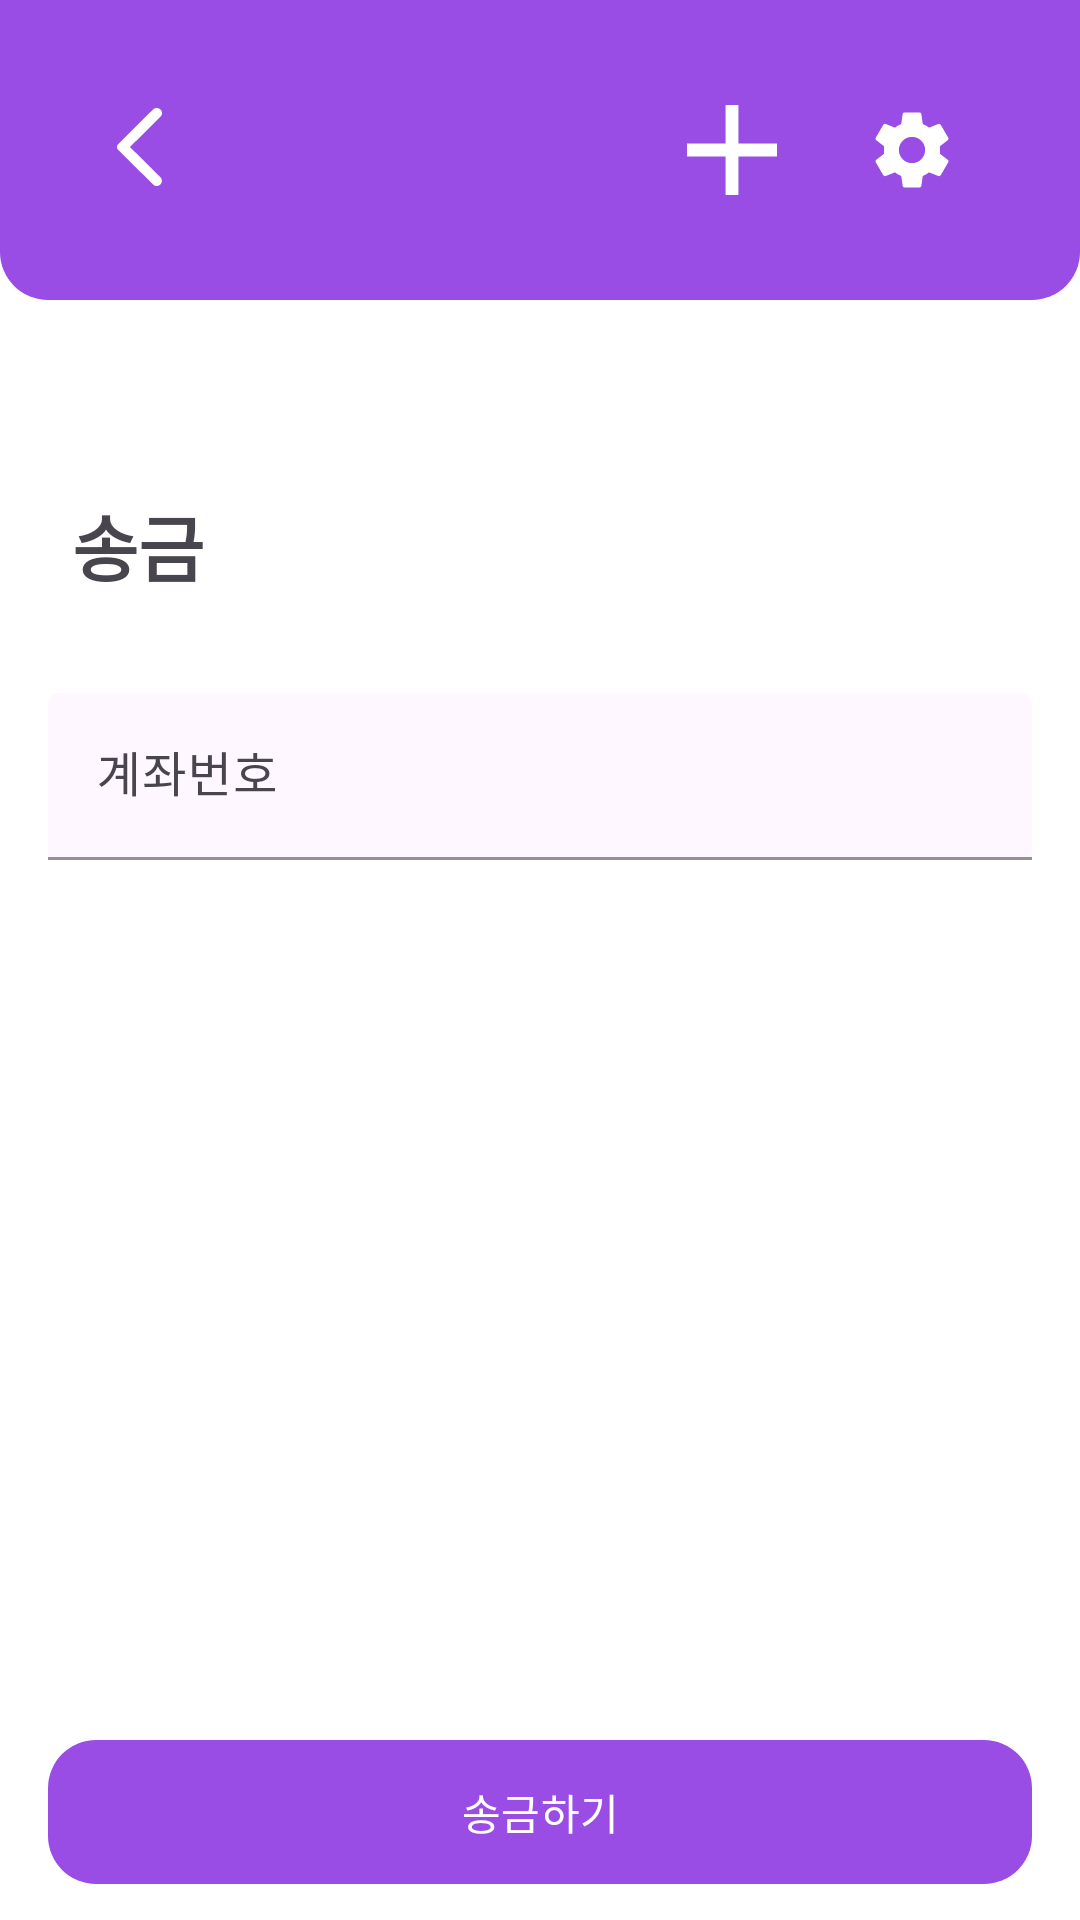

Screen size 1080 × 1920. Icon name, then its box in pixels as (x1, y1, x2, y2):
add: (687, 105, 777, 195)
back: (117, 108, 162, 186)
setting: (875, 112, 949, 188)
